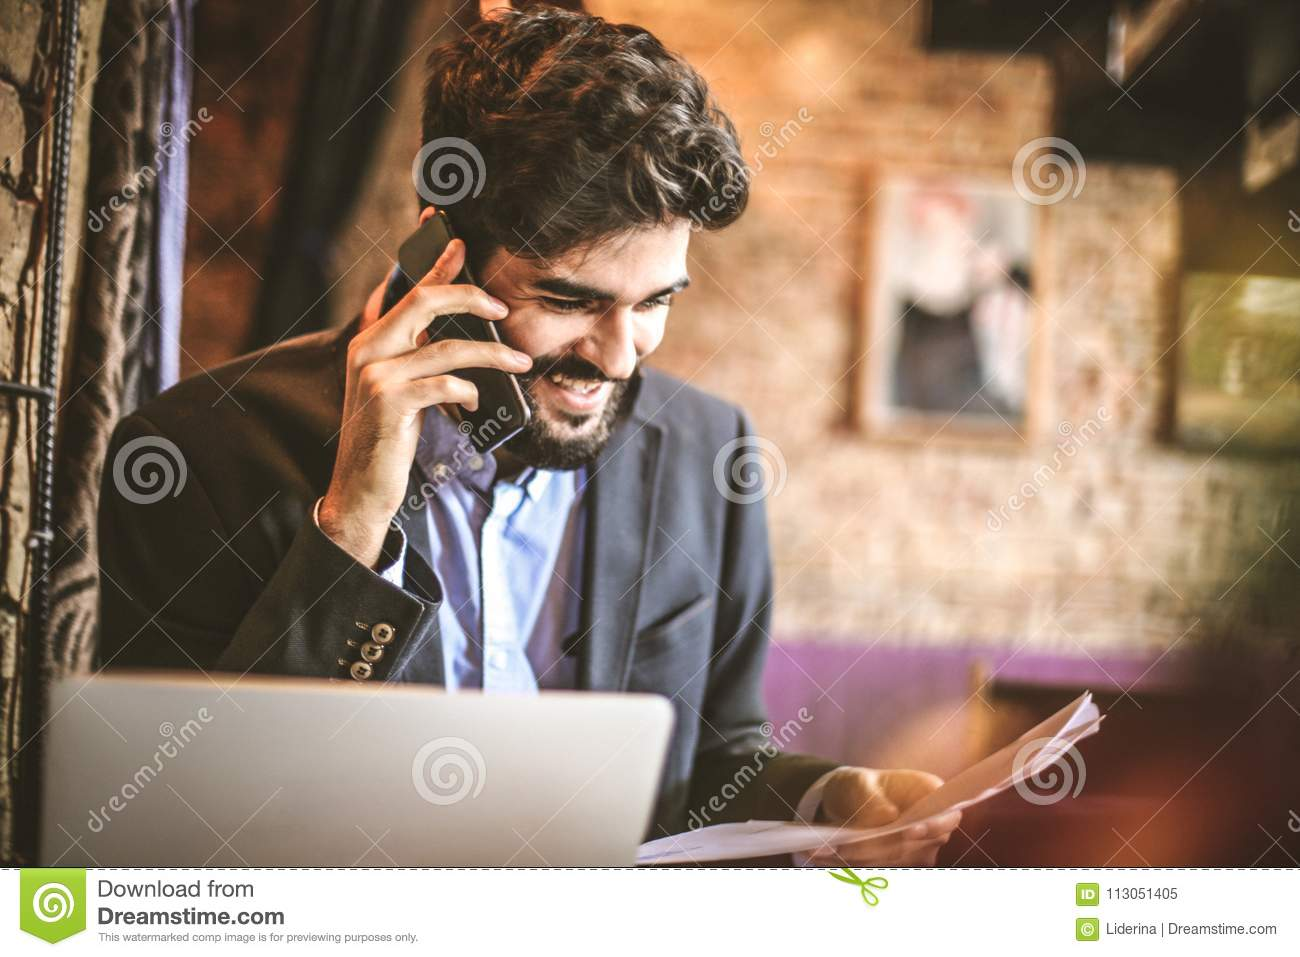phone: (389, 212, 539, 456)
talk: (310, 204, 697, 546)
